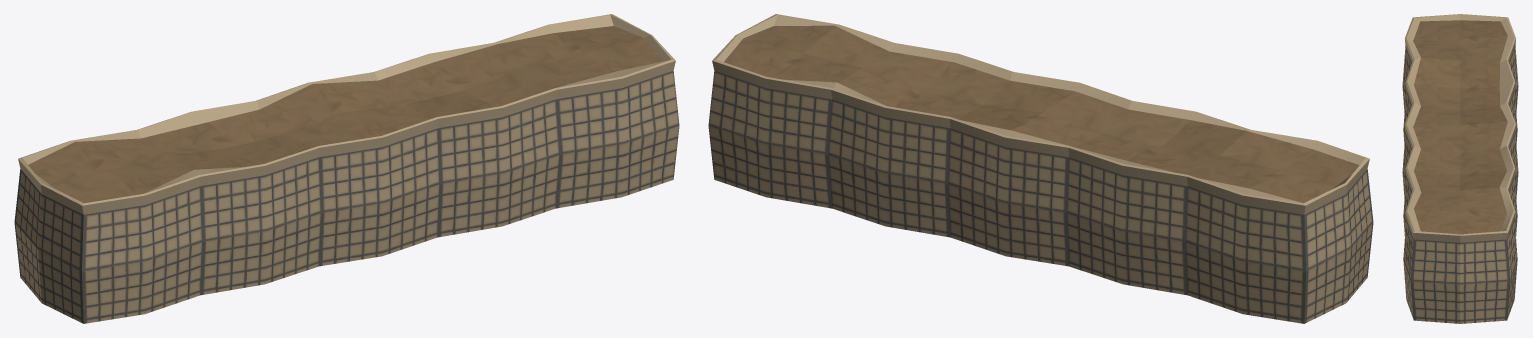
Rendered from SM_Prop_Barrier_Base_Row_02.glb.
3 renders of one model, left to right at view 1: azimuth 30°, elevation 25°; view 2: azimuth 150°, elevation 25°; view 3: azimuth 270°, elevation 25°, orthographic. The views are drawn at different scales.
Visible parts, largest first — view 1: SM_Prop_Barrier_Base_Row_02; view 2: SM_Prop_Barrier_Base_Row_02; view 3: SM_Prop_Barrier_Base_Row_02.
Boxes of the visible parts, x1,y1,x2,y2 form: SM_Prop_Barrier_Base_Row_02: (14, 14, 679, 323); SM_Prop_Barrier_Base_Row_02: (708, 14, 1373, 323); SM_Prop_Barrier_Base_Row_02: (1402, 14, 1518, 323).
Size of the model in its own units: 5.56 by 1.05 by 1.22.
Materials: 1 (1 with a texture image).
